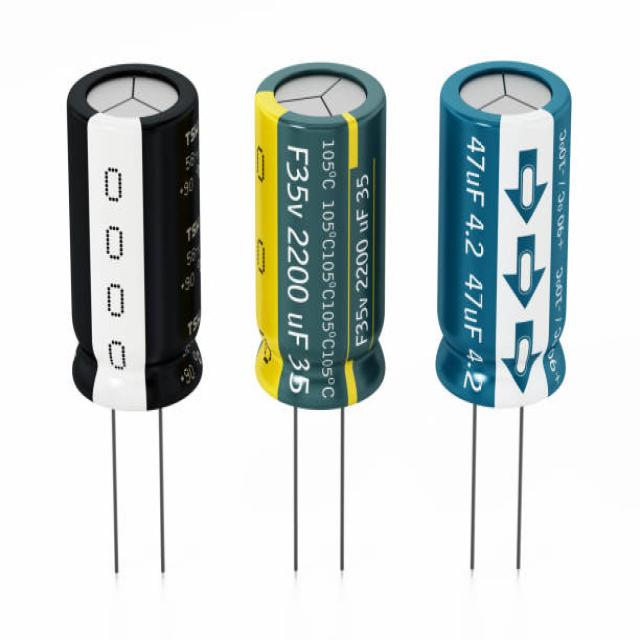Capacitor: (436, 62, 571, 568), (68, 63, 202, 571), (255, 63, 386, 570)
